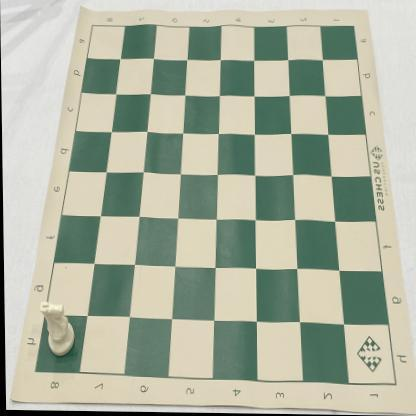white-knight: (38, 302, 75, 358)
